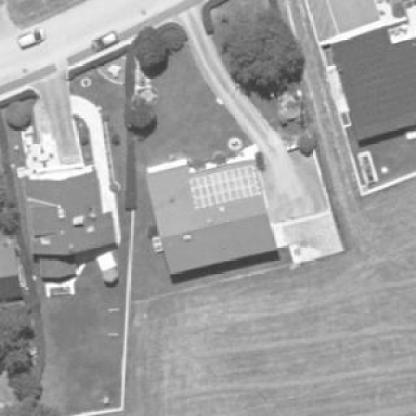solar-pv-panel: (193, 166, 258, 207)
